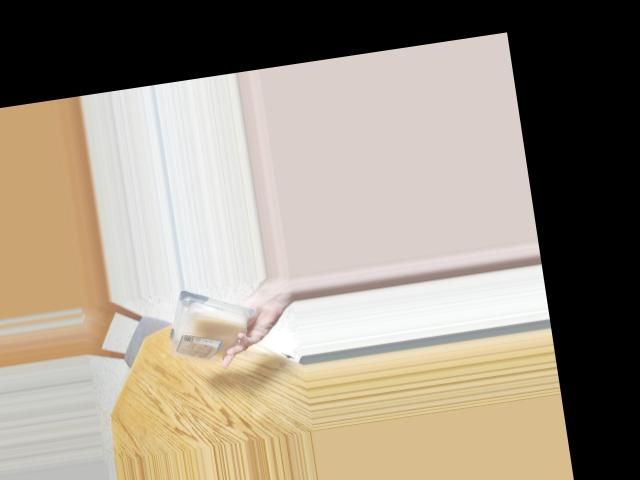cheese: (164, 287, 252, 366)
